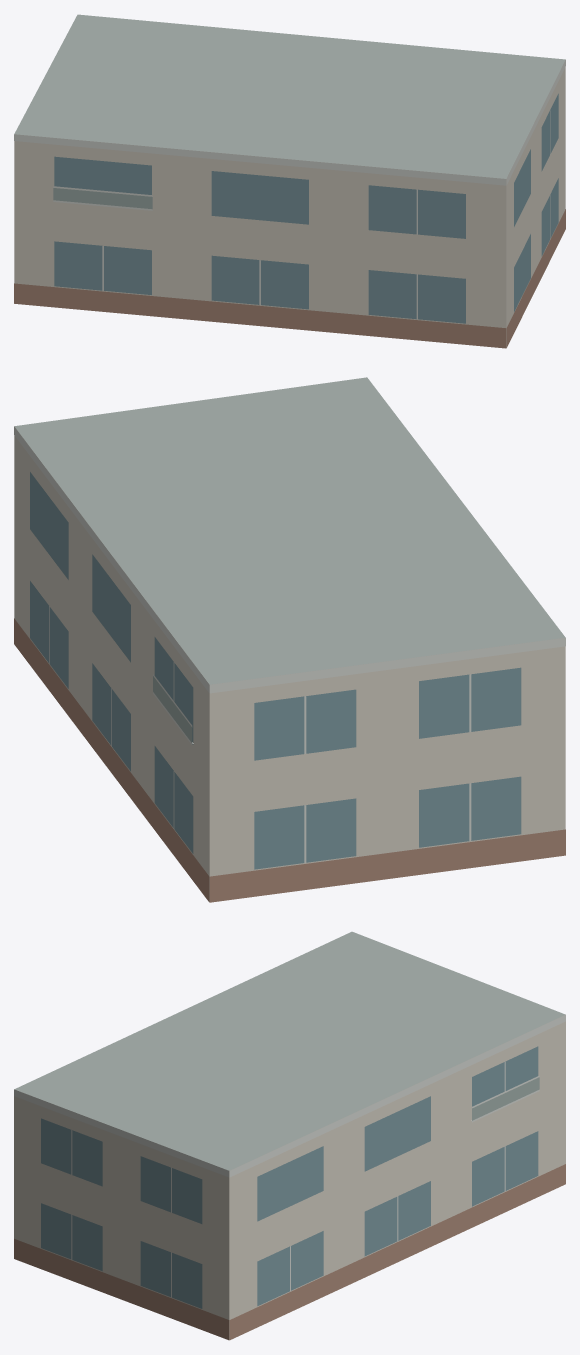
Rendered from survey-upis-32883686.glb.
3 renders of one model, top to bottom at view 1: azimuth 30°, elevation 25°; view 2: azimuth 150°, elevation 25°; view 3: azimuth 270°, elevation 25°, orthographic. The views are drawn at different scales.
Visible parts, largest first — view 1: survey-upis-32883686.tmp; view 2: survey-upis-32883686.tmp; view 3: survey-upis-32883686.tmp.
Part boxes in pixels (x1,y1,x2,y2): survey-upis-32883686.tmp: (14,14,565,348); survey-upis-32883686.tmp: (14,377,565,902); survey-upis-32883686.tmp: (14,931,565,1340).
Size of the model in its own units: 18.48 by 6.1 by 18.
